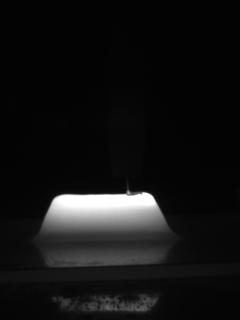tip_wire_left: (111, 173, 130, 194)
tip_wire_right: (127, 173, 140, 194)
